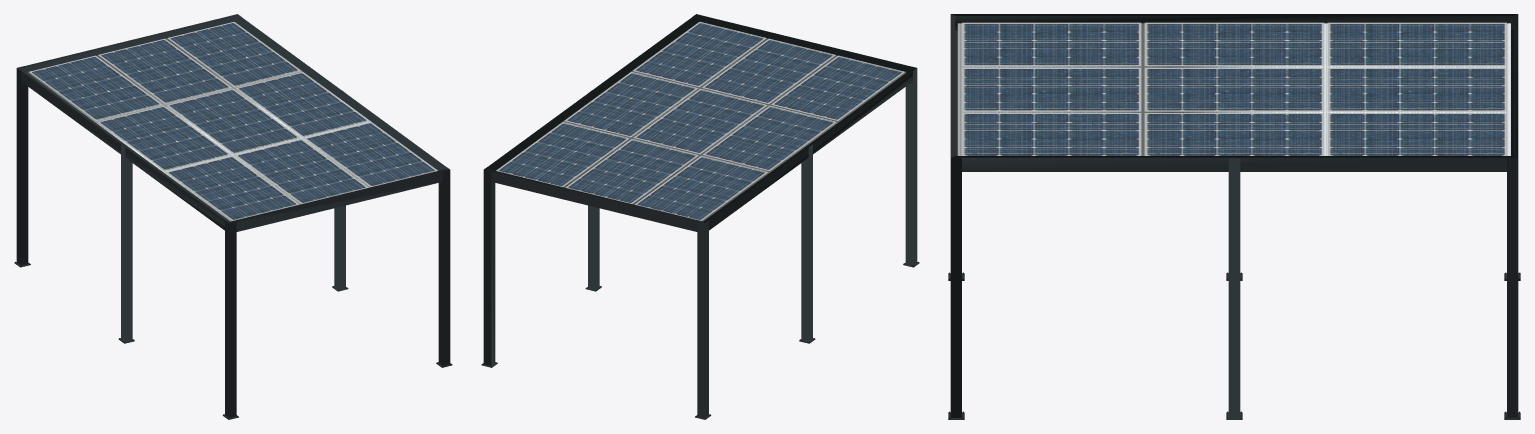
3 views of the same model, side by side, from view 1: azimuth 30°, elevation 25°; view 2: azimuth 150°, elevation 25°; view 3: azimuth 270°, elevation 25° (orthographic). The views are drawn at different scales.
Visible parts, largest first — view 1: priximbattable_net_abris_de_voiture_solaire_640013_carport_s; view 2: priximbattable_net_abris_de_voiture_solaire_640013_carport_s; view 3: priximbattable_net_abris_de_voiture_solaire_640013_carport_s.
Part boxes in pixels (x1,y1,x2,y2): priximbattable_net_abris_de_voiture_solaire_640013_carport_s: (14,14,452,419); priximbattable_net_abris_de_voiture_solaire_640013_carport_s: (481,14,919,419); priximbattable_net_abris_de_voiture_solaire_640013_carport_s: (948,14,1520,419).
Size of the model in its own units: 304 by 254 by 504.
Materials: 1 (1 with a texture image).
